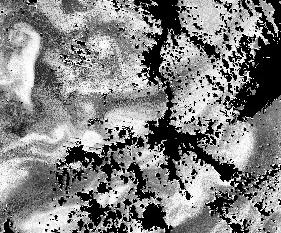CE: (9, 23, 37, 48)
